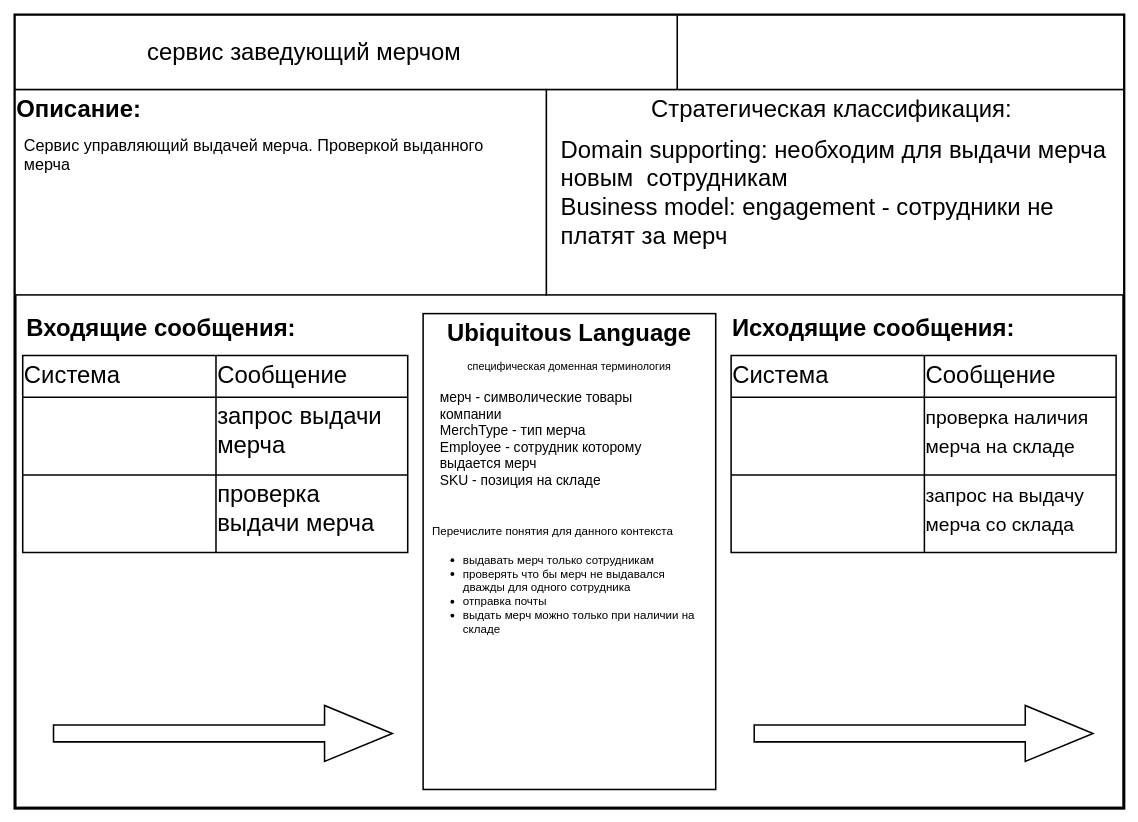
Image size: 1138x822. Some labels were removed from this diagram. Each missing label, with the box of its shape:
Bouneded context canvas: (676, 14, 1124, 90)
Название:: (14, 14, 678, 90)
